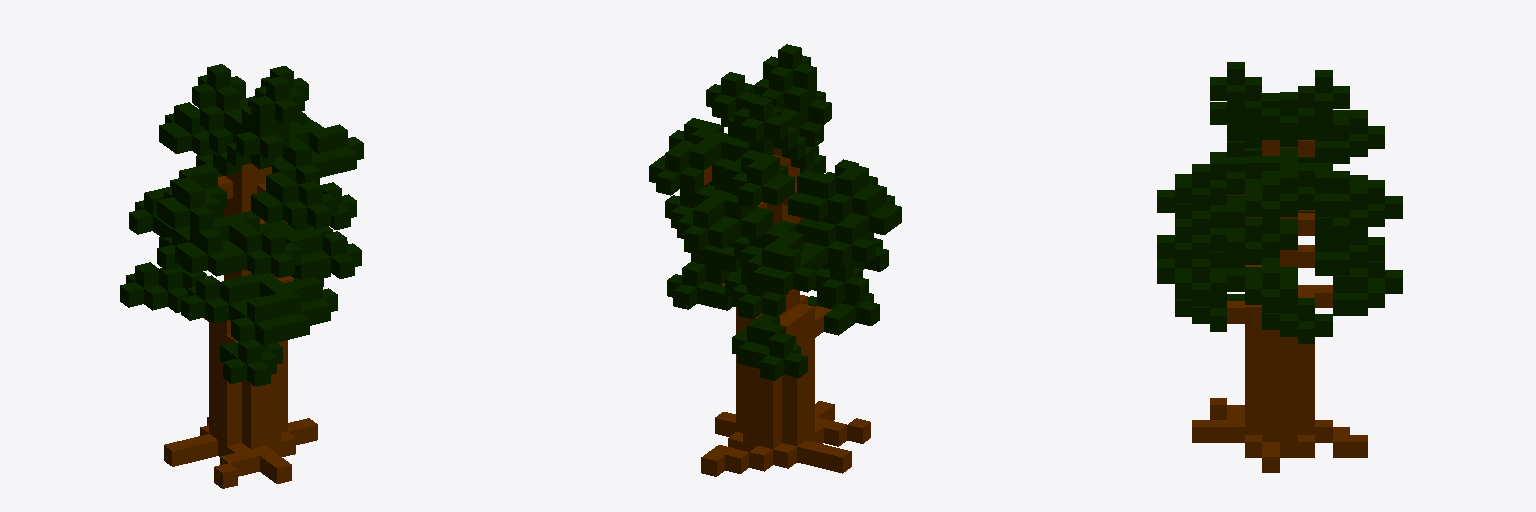
The picture shows the model from 3 angles: view 1: azimuth 30°, elevation 25°; view 2: azimuth 150°, elevation 25°; view 3: azimuth 270°, elevation 25°; orthographic projection.
Size of the model in its own units: 13 by 24 by 14.
1 materials, 1 textured.